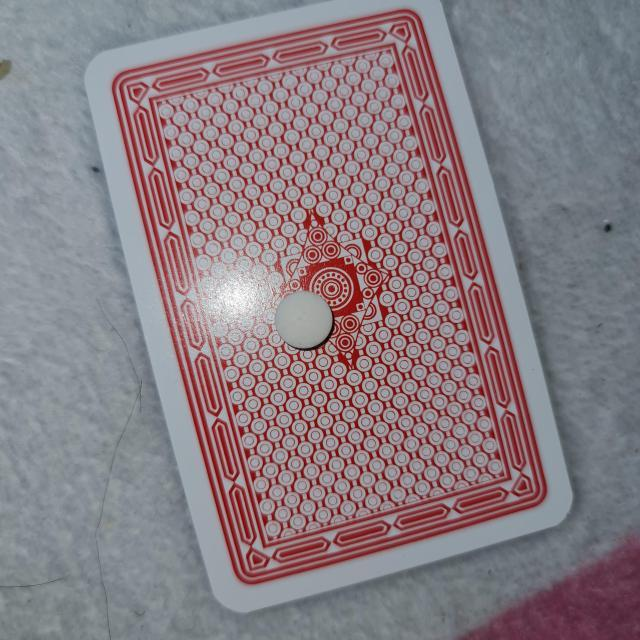pill: (273, 288, 337, 352)
